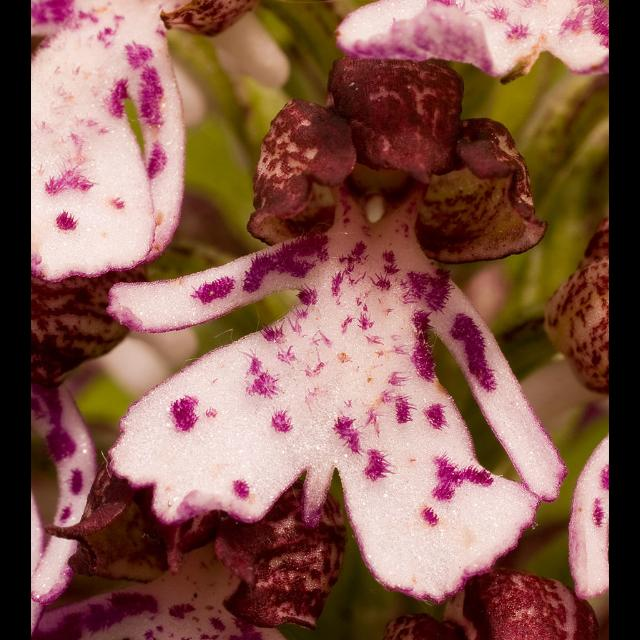Flower: (110, 61, 548, 603), (32, 0, 258, 282), (48, 486, 332, 638), (31, 268, 109, 640), (330, 0, 608, 76), (391, 565, 609, 639), (548, 215, 610, 395), (566, 433, 608, 601)
